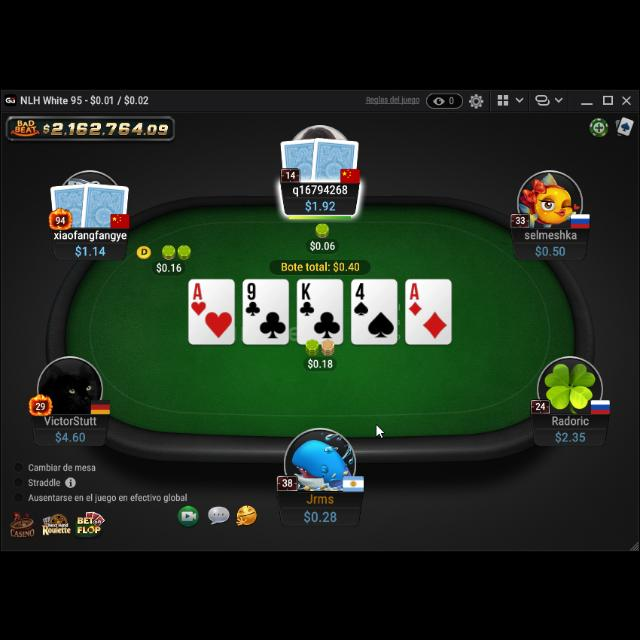4s: (352, 278, 370, 316)
9c: (244, 280, 262, 316)
Ad: (407, 279, 423, 315)
Ah: (190, 280, 208, 314)
Kc: (298, 278, 316, 316)
bet_text: (306, 354, 334, 368), (310, 237, 336, 251), (154, 260, 183, 272)
card_back: (311, 132, 361, 182), (79, 178, 129, 228), (48, 178, 92, 228), (278, 134, 322, 180)
dealer: (136, 242, 152, 260)
pot_text: (282, 258, 362, 272)
stack_text: (302, 504, 338, 522), (304, 194, 338, 212), (74, 242, 106, 256), (554, 426, 586, 440), (54, 427, 86, 441), (534, 241, 566, 255)
